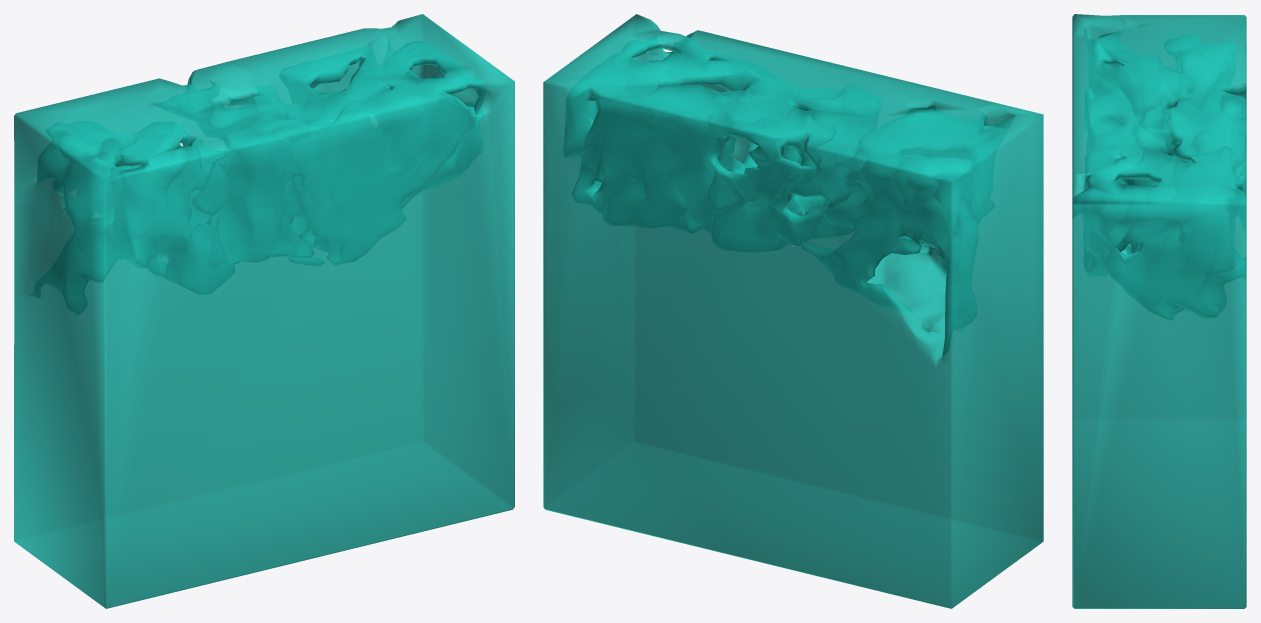
3 views of the same model, side by side, from view 1: azimuth 30°, elevation 25°; view 2: azimuth 150°, elevation 25°; view 3: azimuth 270°, elevation 25° (orthographic). The views are drawn at different scales.
Parts seen in each view (by area): view 1: Liquid_Domain; view 2: Liquid_Domain; view 3: Liquid_Domain.
Boxes of the visible parts, x1,y1,x2,y2 form: Liquid_Domain: (14, 14, 514, 608); Liquid_Domain: (543, 14, 1043, 608); Liquid_Domain: (1072, 14, 1246, 608).
Size of the model in its own units: 884 by 884 by 344.
